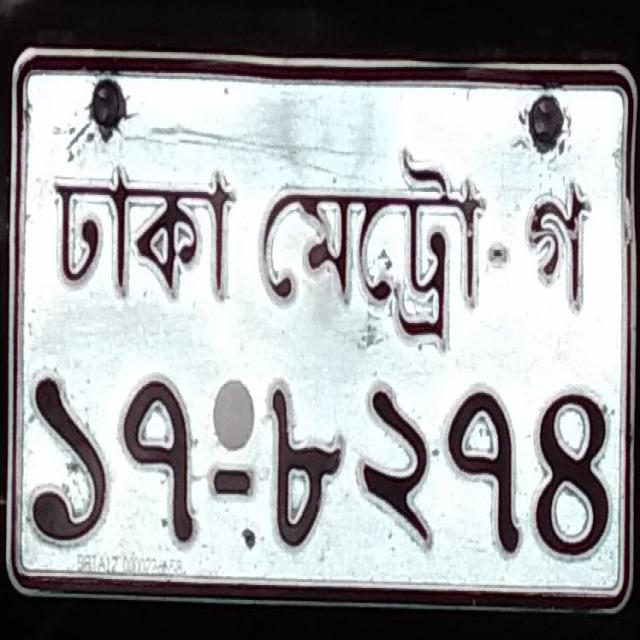numberplate: (2, 43, 639, 612)
